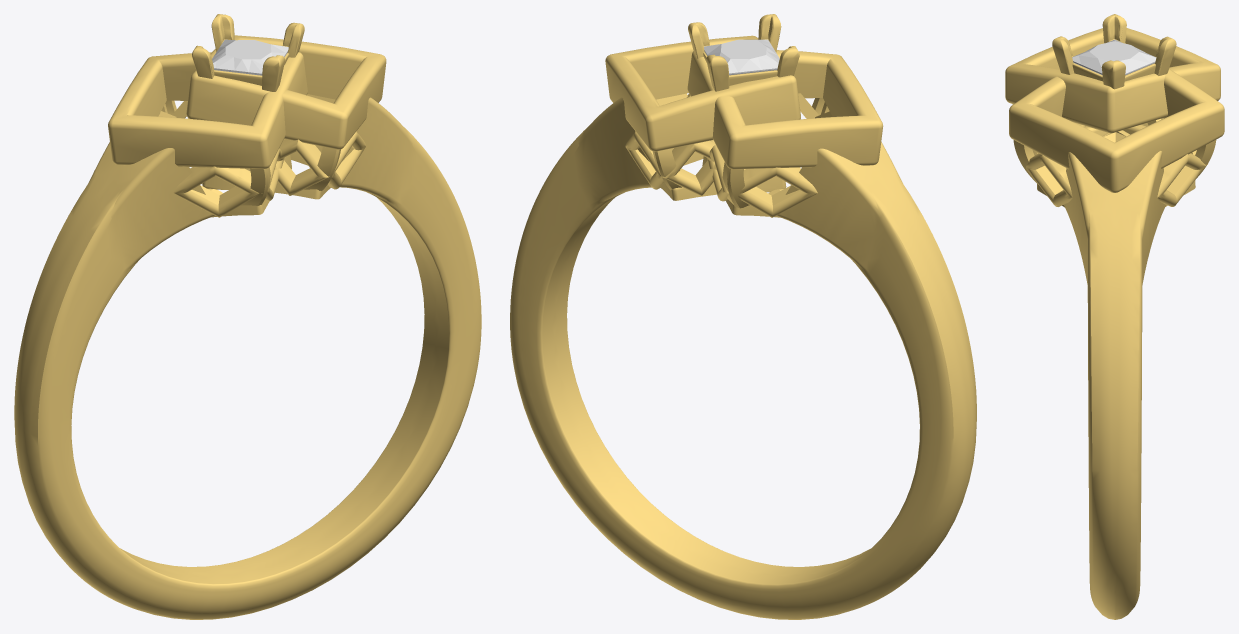
The model's file is Allison_2019.glb.
The picture shows the model from 3 angles, left to right: view 1: azimuth 30°, elevation 25°; view 2: azimuth 150°, elevation 25°; view 3: azimuth 270°, elevation 25°; orthographic projection. The views are drawn at different scales.
Visible parts, largest first — view 1: Bryant_2019.016, Bryant_2019.015; view 2: Bryant_2019.016, Bryant_2019.015; view 3: Bryant_2019.016, Bryant_2019.015.
Part boxes in pixels (<box>): Bryant_2019.016: <box>14,14,481,619</box>; Bryant_2019.015: <box>212,39,288,75</box>; Bryant_2019.016: <box>510,14,976,619</box>; Bryant_2019.015: <box>704,39,779,75</box>; Bryant_2019.016: <box>1005,14,1224,619</box>; Bryant_2019.015: <box>1072,39,1156,75</box>.
Size of the model in its own units: 20.37 by 24.66 by 8.79.
